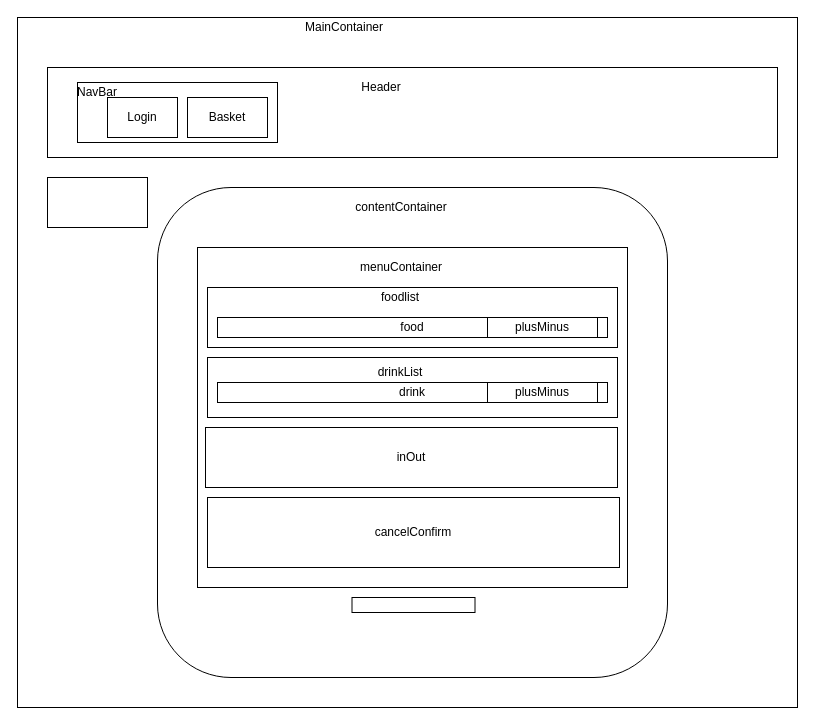
Image size: 815x725. Some labels were removed from this diagram. The shapes that lost their labels are listed below. From the top down, each one's box as (x1, y1, x2, y2) in pixels, then its label:
(46, 176, 148, 228): OrderDetails
(351, 596, 475, 612): accountDetails
